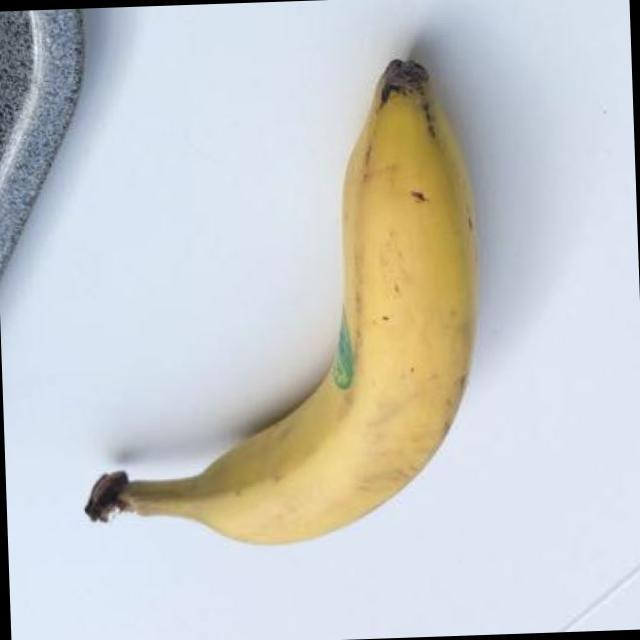Banana: (56, 50, 499, 567)
